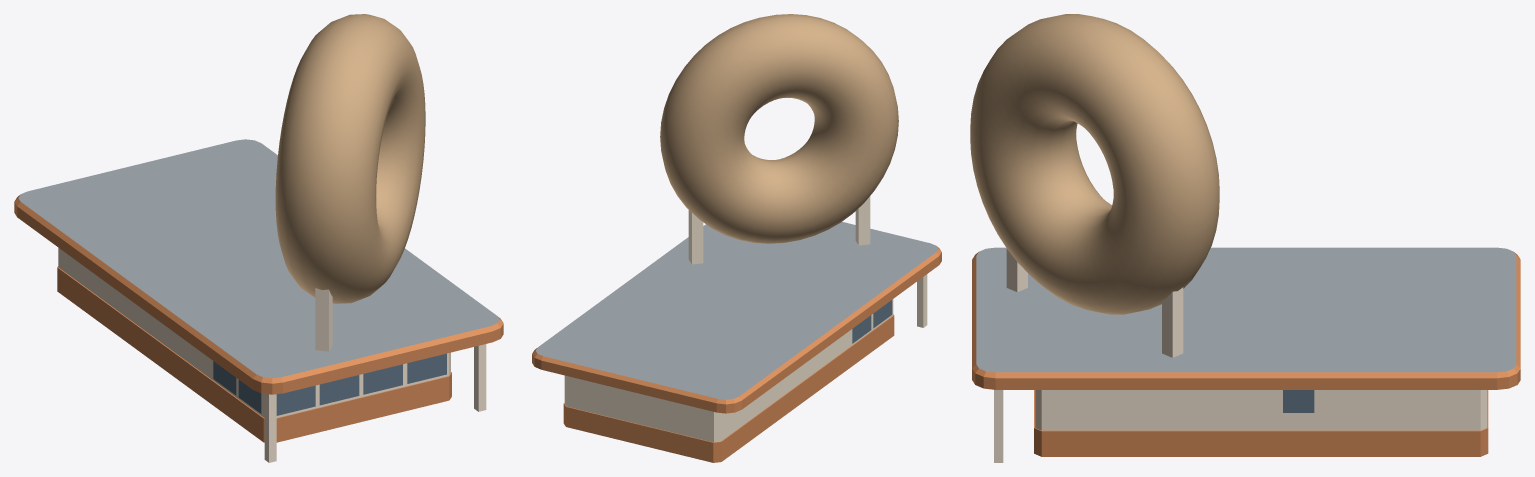
File: la-randys-donuts.glb
3 renders of one model, left to right at view 1: azimuth 30°, elevation 25°; view 2: azimuth 150°, elevation 25°; view 3: azimuth 270°, elevation 25°, orthographic. The views are drawn at different scales.
Parts seen in each view (by area): view 1: Randy's Donuts; view 2: Randy's Donuts; view 3: Randy's Donuts.
Part boxes in pixels (bbox=[...]): Randy's Donuts: bbox=[14, 14, 503, 462]; Randy's Donuts: bbox=[532, 14, 941, 462]; Randy's Donuts: bbox=[970, 14, 1520, 462].
Size of the model in its own units: 9.7 by 13.85 by 17.56.
